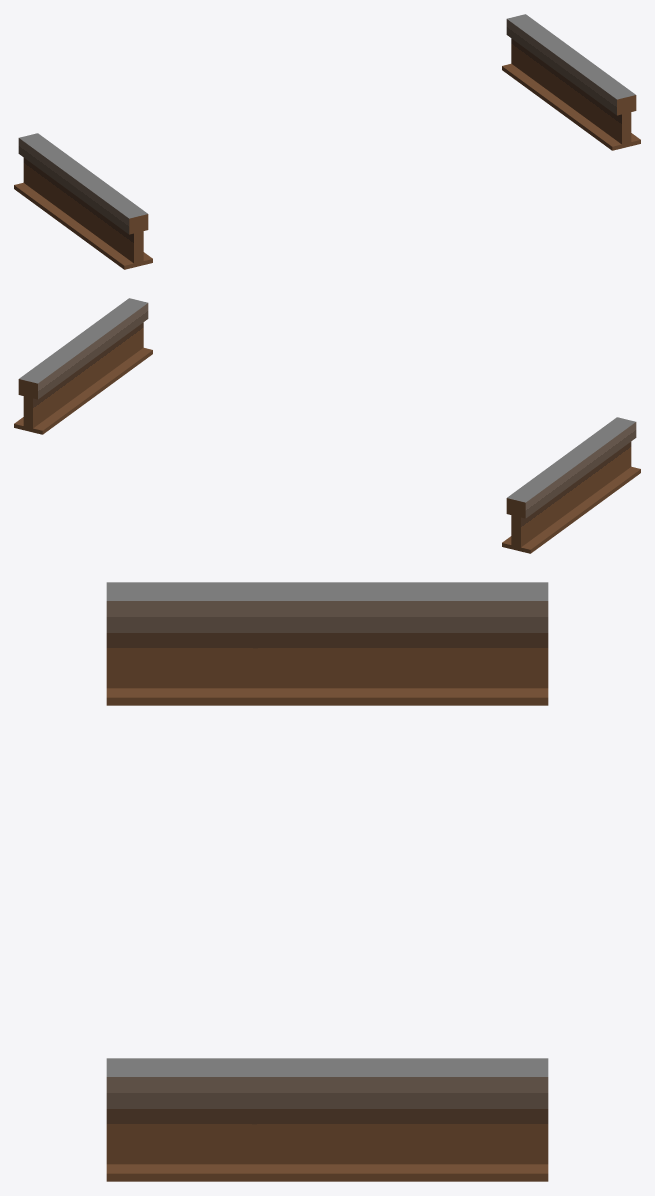
The model's file is tramrails.obj.
3 renders of one model, top to bottom at view 1: azimuth 30°, elevation 25°; view 2: azimuth 150°, elevation 25°; view 3: azimuth 270°, elevation 25°, orthographic. The views are drawn at different scales.
Parts seen in each view (by area): view 1: cube; view 2: cube; view 3: cube.
Part boxes in pixels (x1=…): cube: x1=14, y1=14, x2=640, y2=269; cube: x1=14, y1=298, x2=640, y2=553; cube: x1=106, y1=582, x2=548, y2=1181.
Bounding box in the file's own units: 1.69 × 0.1562 × 0.625.
1 material, 1 textured.
